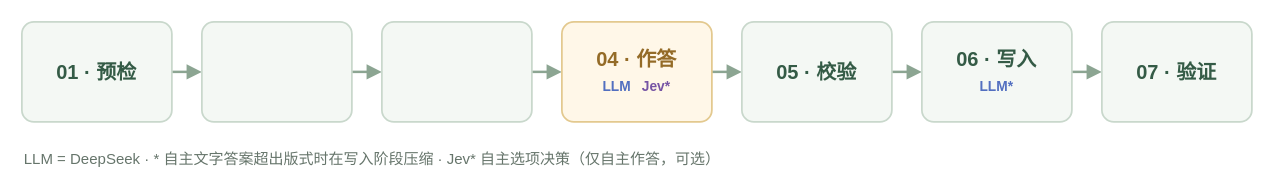
This 1275x194 diagram has some shape labels left out. Here are the shapes that lost their labels. From the top down, the box of each, then its label:
(200, 20, 352, 122): 02 · 提取
(380, 20, 532, 122): 03 · 理解 LLM
